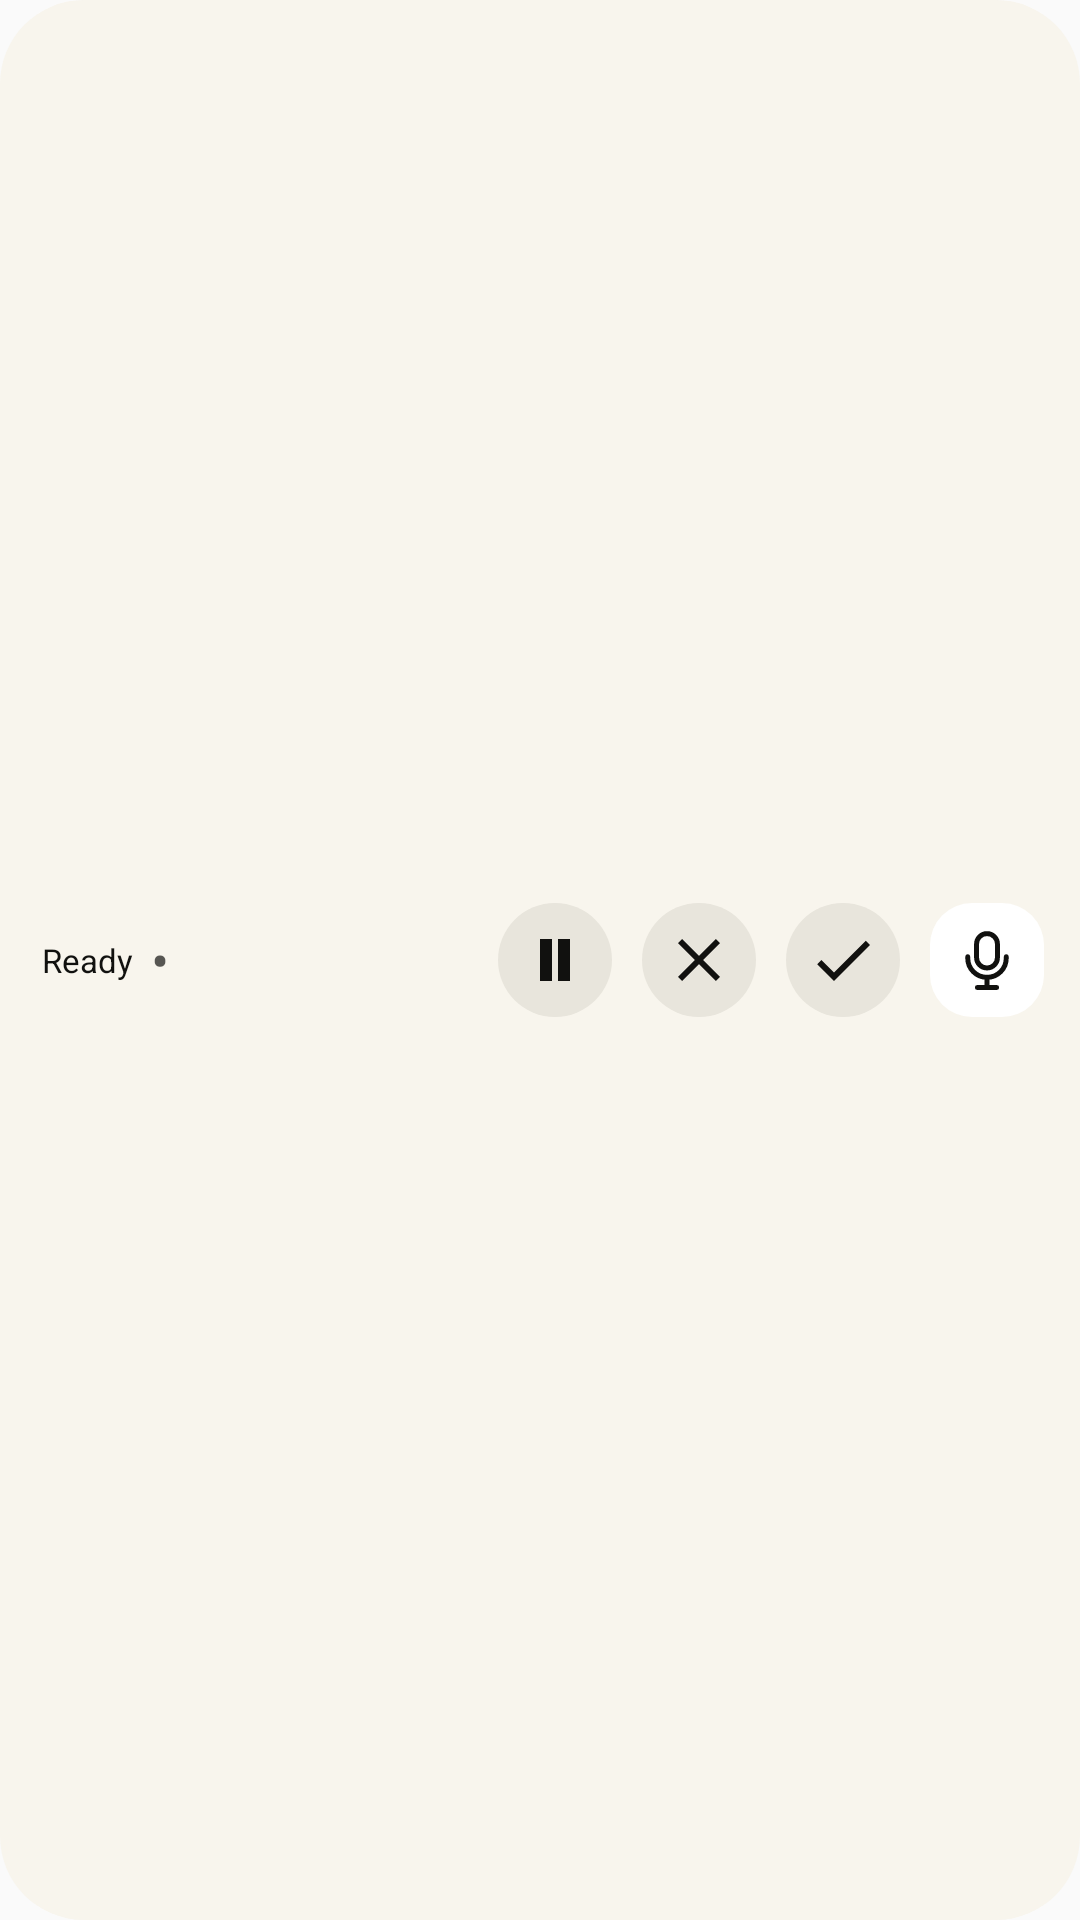

Icons on this 1080px×1920px Android screen, each with the point to tap as point (x, y):
Discard: point (699, 960)
Finish: point (843, 960)
Pause or resume: point (555, 960)
Record: point (987, 960)
